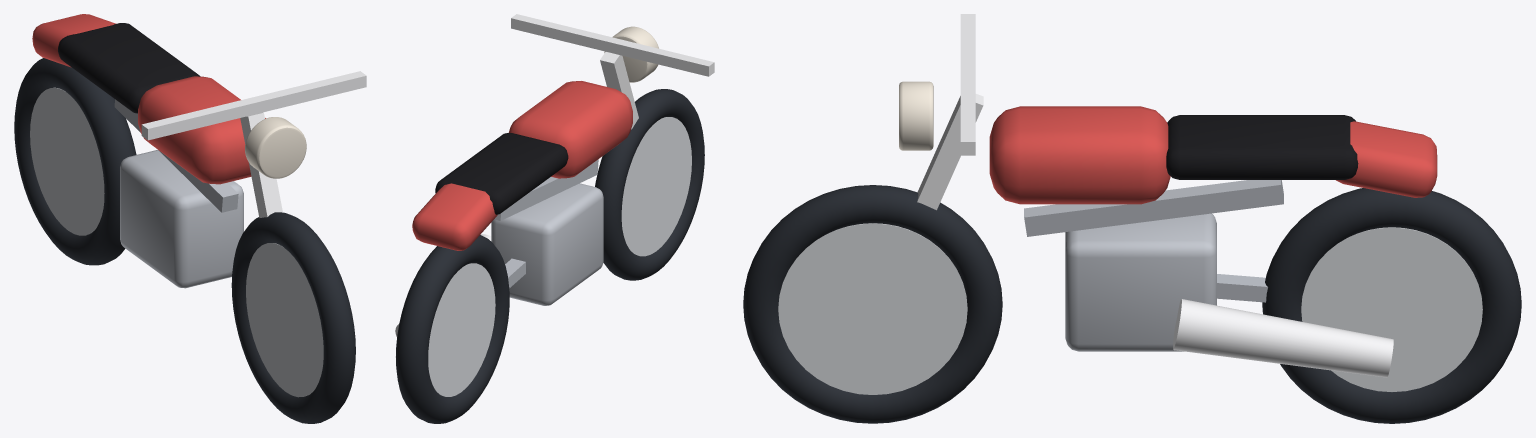
File: motorbike.glb
3 renders of one model, left to right at view 1: azimuth 30°, elevation 25°; view 2: azimuth 150°, elevation 25°; view 3: azimuth 270°, elevation 25°, orthographic. The views are drawn at different scales.
Parts seen in each view (by area): view 1: engine, fw_tire, rw_tire, fw_rim, rw_rim, tank, seat.002, bar.001, light, tail, fork, frame1; view 2: rw_tire, engine, fw_tire, fw_rim, tank, rw_rim, seat.002, tail, bar.001, frame1, light, fork (+1 smaller); view 3: fw_rim, fw_tire, rw_tire, rw_rim, engine, tank, seat.002, exhaust, frame1, tail, light, fork (+2 smaller).
Part boxes in pixels (x1,y1,x2,y2): engine: (120,150,243,288); fw_tire: (231,212,355,423); rw_tire: (14,58,136,265); fw_rim: (246,243,323,397); rw_rim: (30,87,104,235); tank: (138,76,265,184); seat.002: (58,23,200,113); bar.001: (141,71,366,140); light: (245,117,306,178); tail: (32,14,116,67); fork: (240,112,282,217); frame1: (114,99,238,212); rw_tire: (396,235,509,423); engine: (491,183,603,305); fw_tire: (595,89,704,280); fw_rim: (621,117,691,256); tank: (508,81,632,178); rw_rim: (428,263,495,396); seat.002: (435,133,568,214); tail: (412,183,497,250); bar.001: (511,14,714,76); frame1: (494,159,598,220); light: (604,26,658,82); fork: (600,52,638,129); fw_rim: (778,223,967,394); fw_tire: (743,185,1002,423); rw_tire: (1262,188,1521,423); rw_rim: (1301,227,1482,391); engine: (1065,213,1216,351); tank: (989,106,1170,204); seat.002: (1166,115,1358,179); exhaust: (1173,299,1393,377); frame1: (1024,180,1283,236); tail: (1336,121,1437,197); light: (899,81,933,150); fork: (917,94,983,210).
Bounding box in the file's own units: 0.7 × 0.8775 × 1.8.
